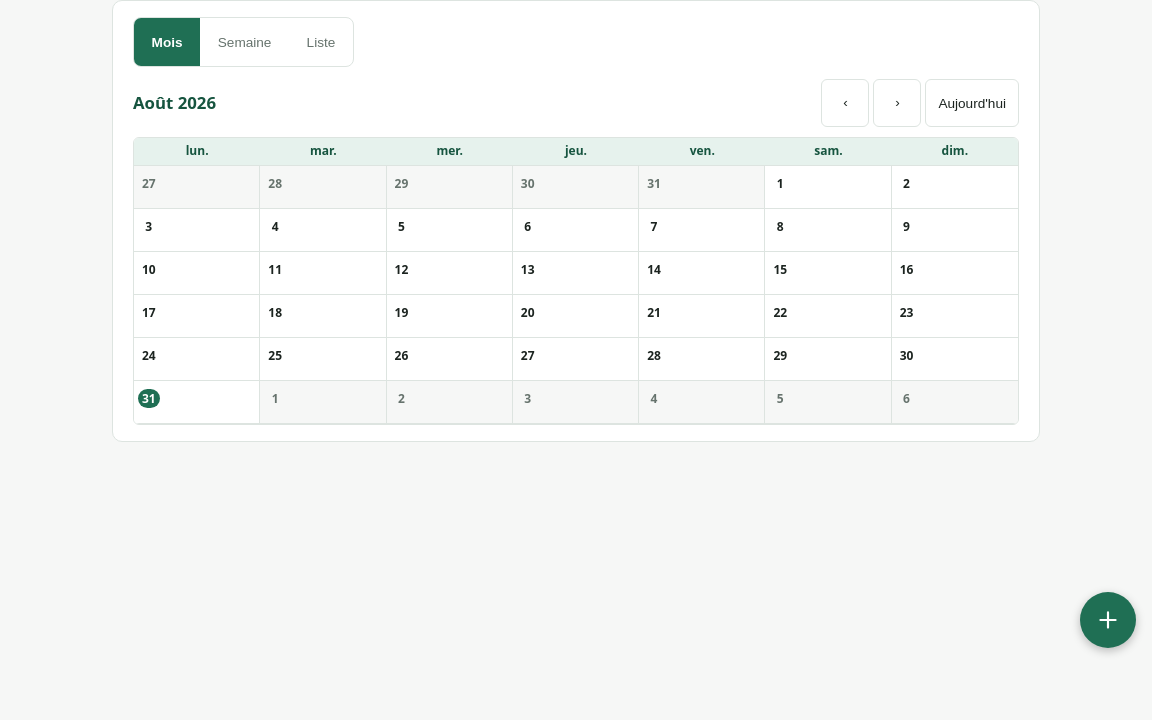
Test: ouverture du formulaire › refuse la saisie sur un équipement dont je ne fais pas partie du cercle
The image size is (1152, 720).
Step 1. Click the button named "Réserver un créneau" → click(1108, 620), box [1080,592,1136,648]
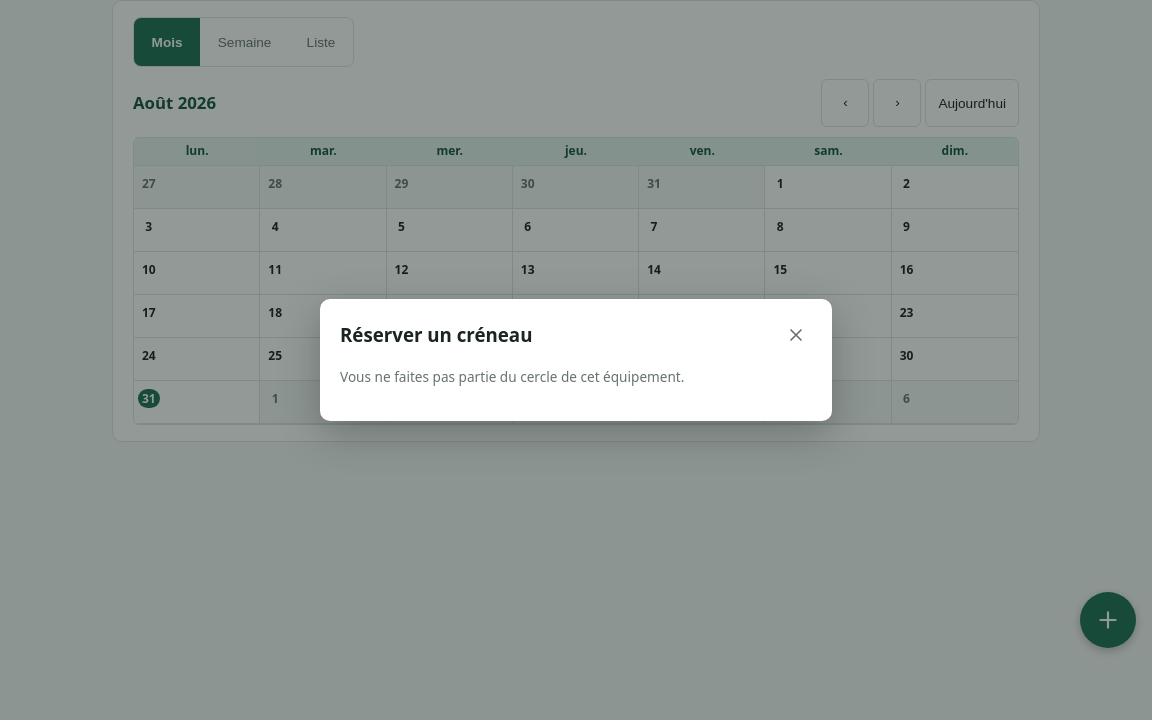
Check: the text "Vous ne faites pas partie du cercle de cet équipement." is shown, box [340,367,684,386]
